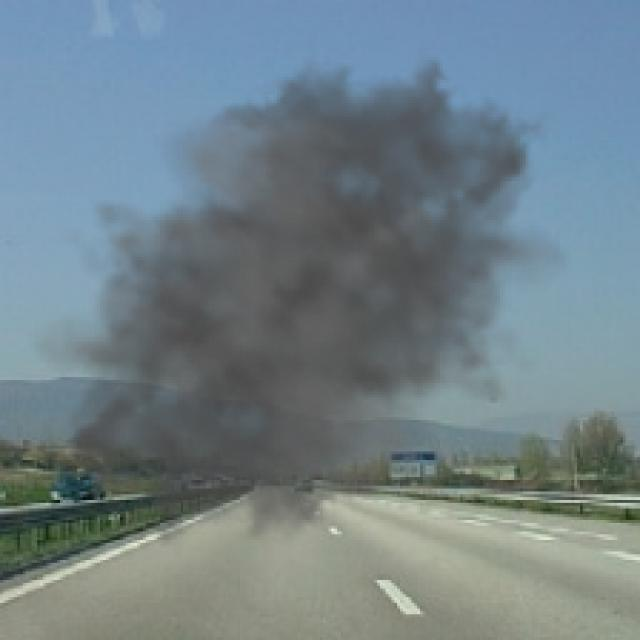smoke: (29, 23, 572, 580)
